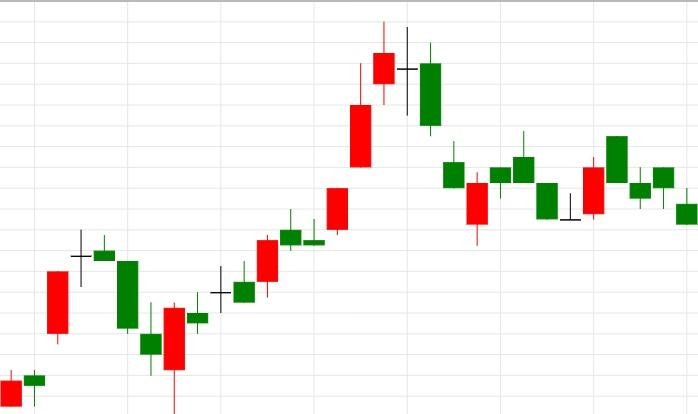bullish_engulfing_rise: (71, 229, 185, 414)
morning_star_rise: (420, 43, 605, 246)
